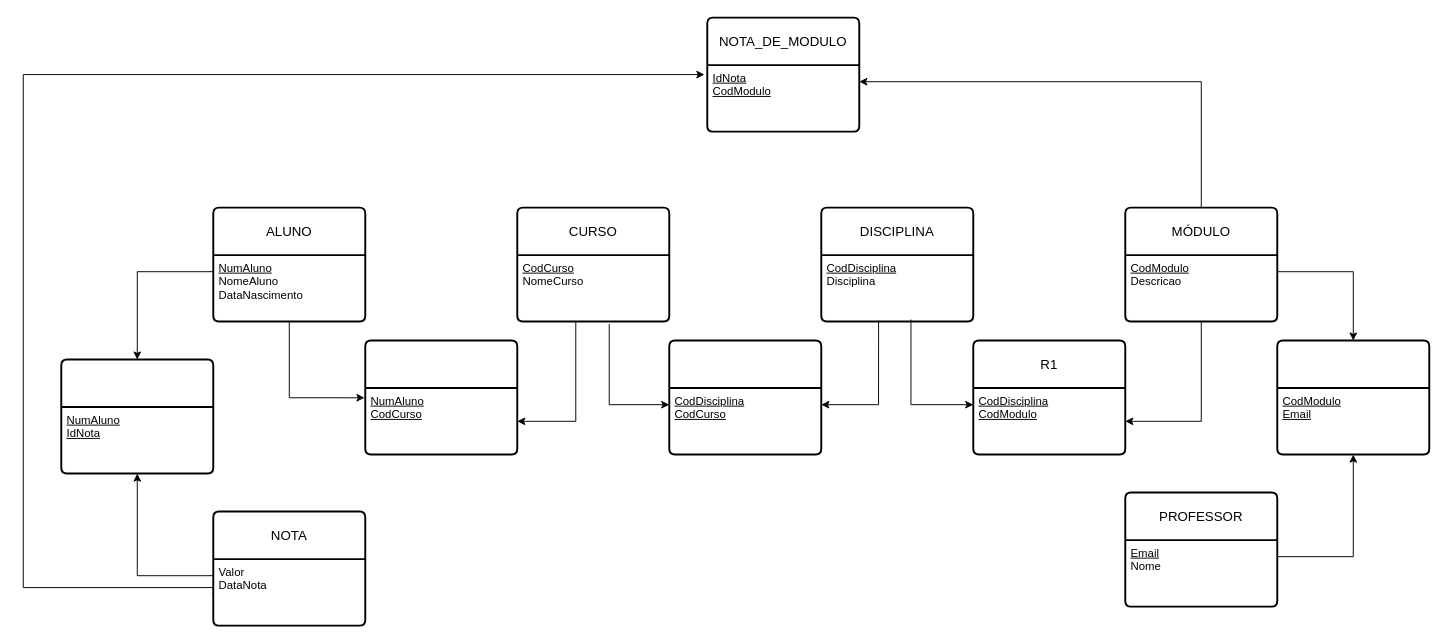
Some shapes in this 1447 by 642 pixel diagram are drawn without their labels. Each missing label, with the box of its shape:
ALUNO_TEM_NOTA: (60, 358, 214, 474)
R2: (1276, 339, 1430, 455)
R3: (668, 339, 822, 455)
R4: (364, 339, 518, 455)
